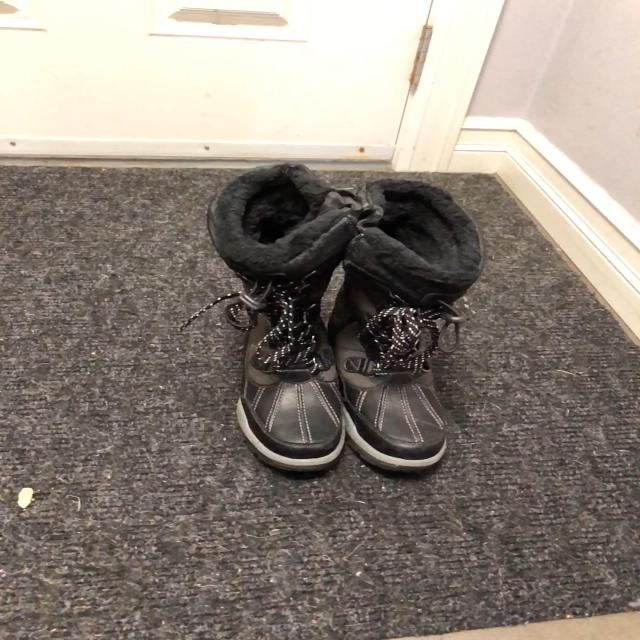shoe: (333, 271, 450, 469), (234, 293, 345, 472)
